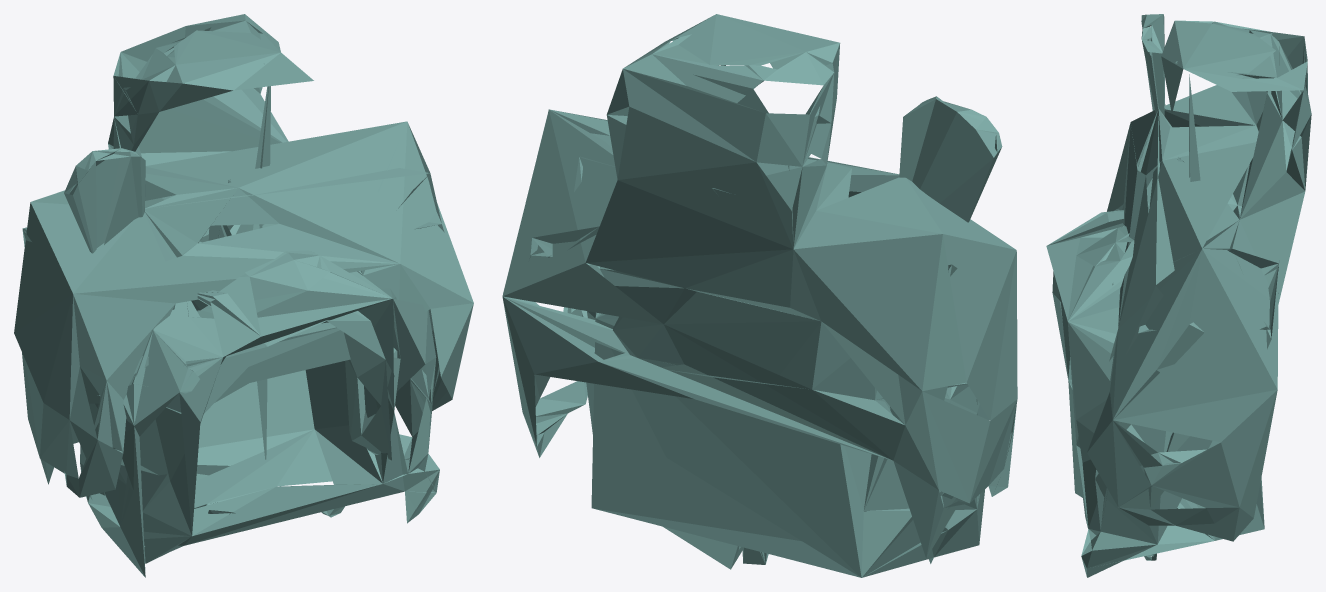
Rendered from chair_03_spark_closed.glb.
The picture shows the model from 3 angles, left to right: view 1: azimuth 30°, elevation 25°; view 2: azimuth 150°, elevation 25°; view 3: azimuth 270°, elevation 25°; orthographic projection. The views are drawn at different scales.
Parts seen in each view (by area): view 1: p0; view 2: p0; view 3: p0.
Boxes of the visible parts, x1=… form: p0: x1=14, y1=14, x2=473, y2=577; p0: x1=502, y1=14, x2=1017, y2=577; p0: x1=1046, y1=14, x2=1311, y2=577.
Bounding box in the file's own units: 1.81 × 1.99 × 1.01.
